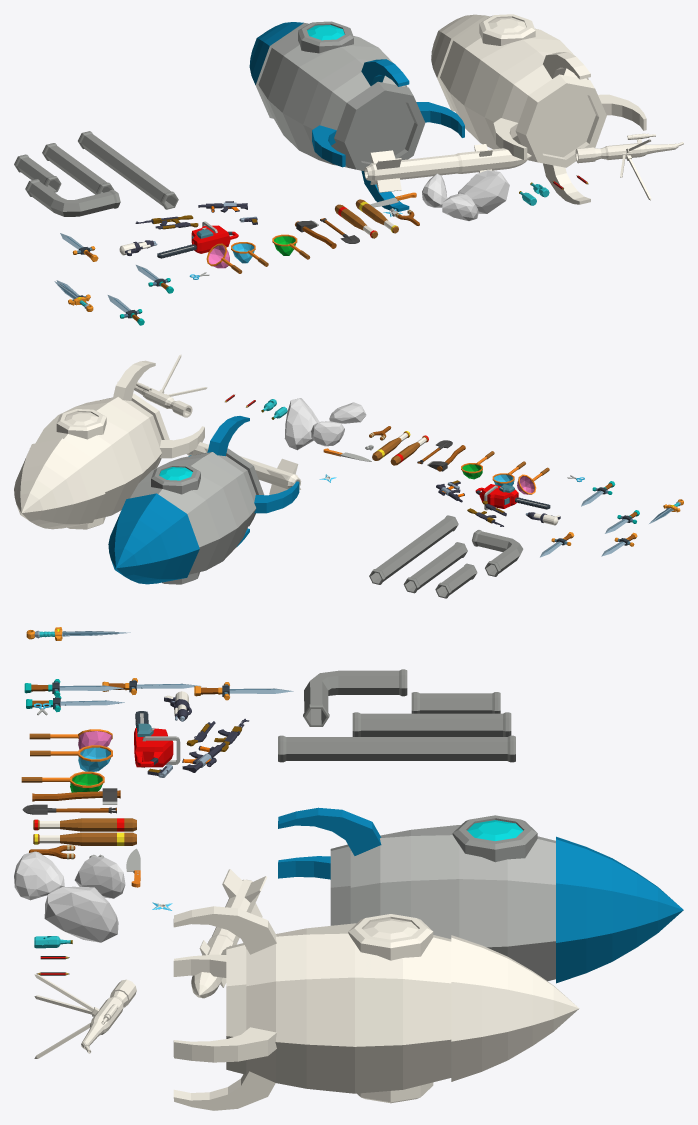
Rendered from Silahlar.fbx.
3 renders of one model, top to bottom at view 1: azimuth 30°, elevation 25°; view 2: azimuth 150°, elevation 25°; view 3: azimuth 270°, elevation 25°, orthographic. The views are drawn at different scales.
Visible parts, largest first — view 1: RocketV2, Rocket, Missile, Pipe, Pipe3, Telescope Gun, StoneV6, Pipe2, Chainsaw, Pipe4, StoneV5, StoneV4 (+3 smaller); view 2: Rocket, RocketV2, Pipe, Missile, Pipe3, StoneV6, Pipe2, Telescope Gun, Chainsaw, Pipe4, StoneV4, StoneV5 (+1 smaller); view 3: RocketV2, Rocket, Pipe, Pipe2, Pipe3, StoneV6, Missile, Telescope Gun, Pipe4, Chainsaw, StoneV5, StoneV4 (+6 smaller).
Boxes of the visible parts, <box> form: RocketV2: <box>431,14,646,204</box>; Rocket: <box>249,21,464,211</box>; Missile: <box>364,144,531,192</box>; Pipe: <box>78,131,178,209</box>; Pipe3: <box>25,179,120,216</box>; Telescope Gun: <box>575,133,683,200</box>; StoneV6: <box>458,170,509,213</box>; Pipe2: <box>42,143,113,194</box>; Chainsaw: <box>157,221,238,258</box>; Pipe4: <box>14,154,61,192</box>; StoneV5: <box>442,193,478,220</box>; StoneV4: <box>422,173,447,207</box>; Rocket: <box>108,416,299,584</box>; RocketV2: <box>14,360,204,529</box>; Pipe: <box>369,515,458,584</box>; Missile: <box>187,442,301,494</box>; Pipe3: <box>472,530,523,576</box>; StoneV6: <box>284,398,319,450</box>; Pipe2: <box>403,542,467,593</box>; Telescope Gun: <box>117,354,207,417</box>; Chainsaw: <box>475,484,550,510</box>; Pipe4: <box>435,563,477,598</box>; StoneV4: <box>311,421,344,446</box>; StoneV5: <box>329,402,366,423</box>; RocketV2: <box>173,906,579,1110</box>; Rocket: <box>278,807,683,983</box>; Pipe: <box>278,735,515,762</box>; Pipe2: <box>352,712,511,736</box>; Pipe3: <box>303,669,407,726</box>; StoneV6: <box>44,886,118,942</box>; Missile: <box>191,869,267,998</box>; Telescope Gun: <box>34,974,136,1058</box>; Pipe4: <box>411,692,500,713</box>; Chainsaw: <box>134,711,180,767</box>; StoneV5: <box>14,851,64,900</box>; StoneV4: <box>74,856,125,898</box>.
Bounding box in the file's own units: 1482 × 322 × 990.
